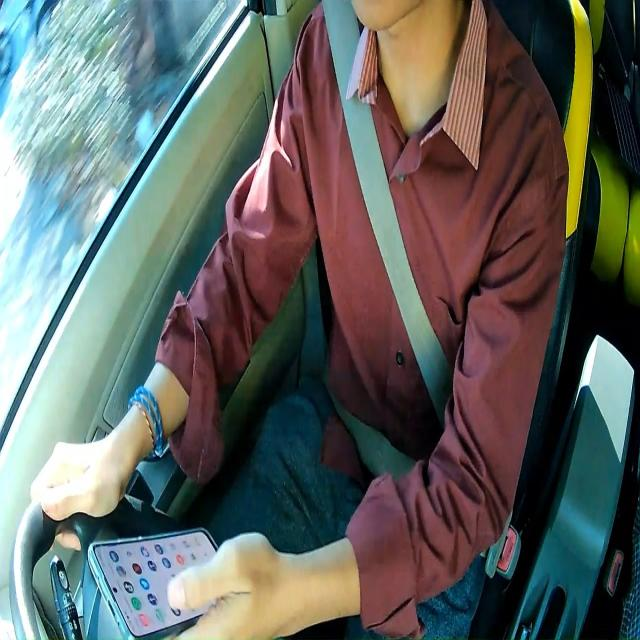phone: (88, 522, 220, 638)
